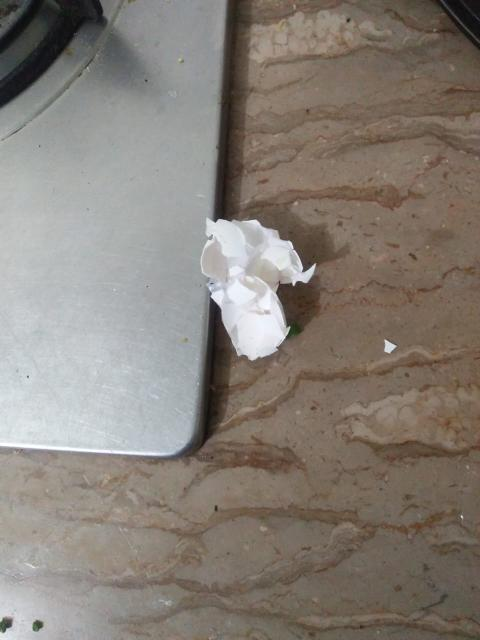Roto: (200, 215, 316, 361)
